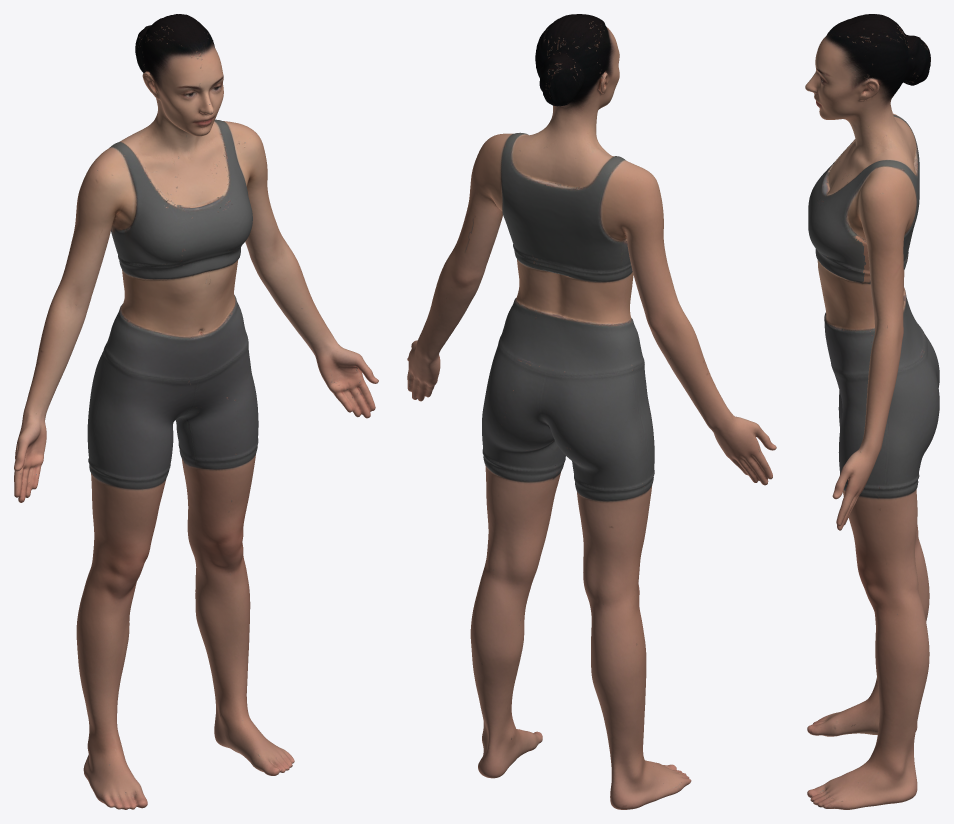
Rendered from body_f.glb.
3 renders of one model, left to right at view 1: azimuth 30°, elevation 25°; view 2: azimuth 150°, elevation 25°; view 3: azimuth 270°, elevation 25°, orthographic.
Parts seen in each view (by area): view 1: Mesh_0; view 2: Mesh_0; view 3: Mesh_0.
Part boxes in pixels (left/top/right/bottom): Mesh_0: left=14, top=14, right=378, bottom=809; Mesh_0: left=407, top=14, right=776, bottom=809; Mesh_0: left=805, top=14, right=939, bottom=809.
Bounding box in the file's own units: 0.9597 × 1.9 × 0.3089.
Materials: 1 (1 with a texture image).
